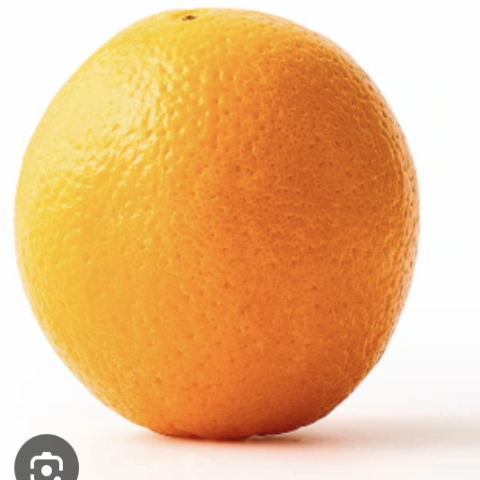orange: (0, 4, 462, 480)
